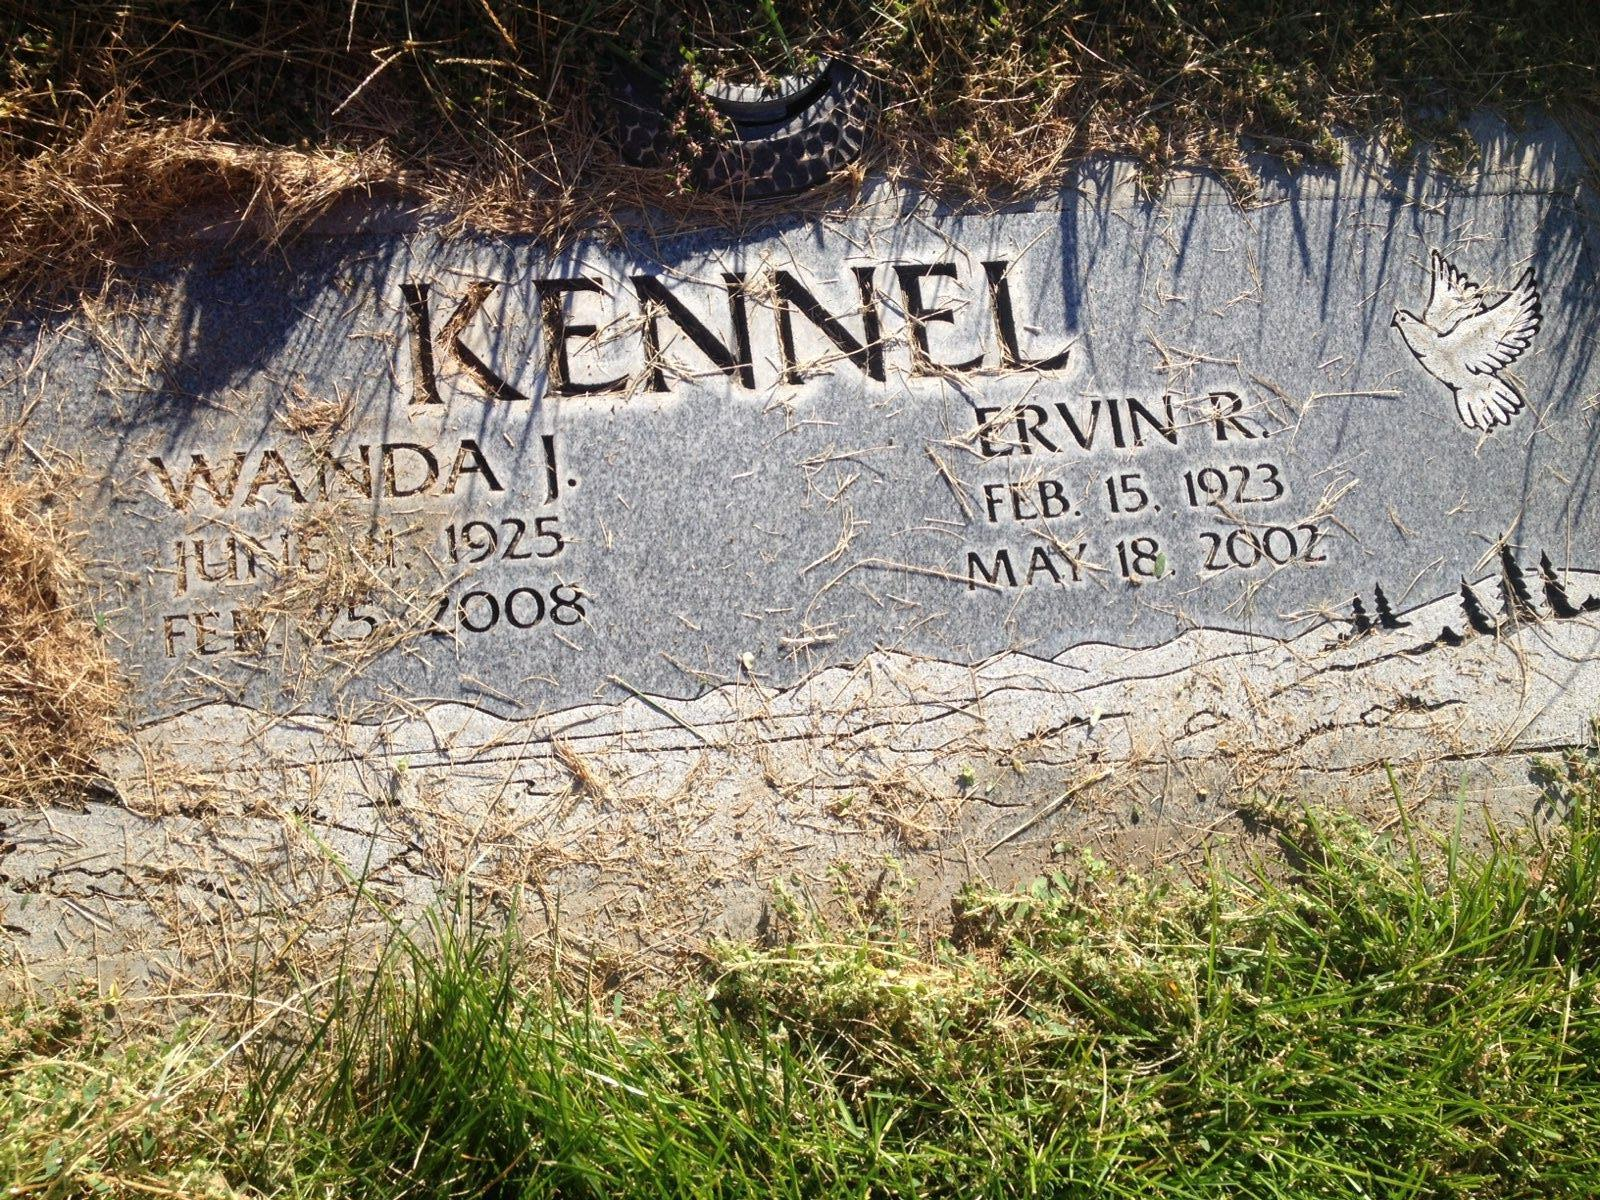flat: (18, 171, 1597, 886)
